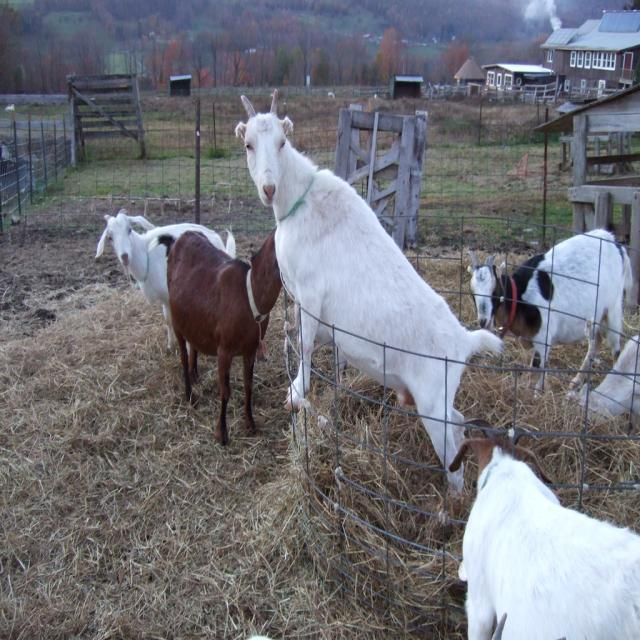Goat: (234, 88, 504, 498), (449, 417, 640, 638), (466, 225, 633, 400), (165, 225, 283, 446), (94, 207, 236, 355), (577, 330, 639, 434)
